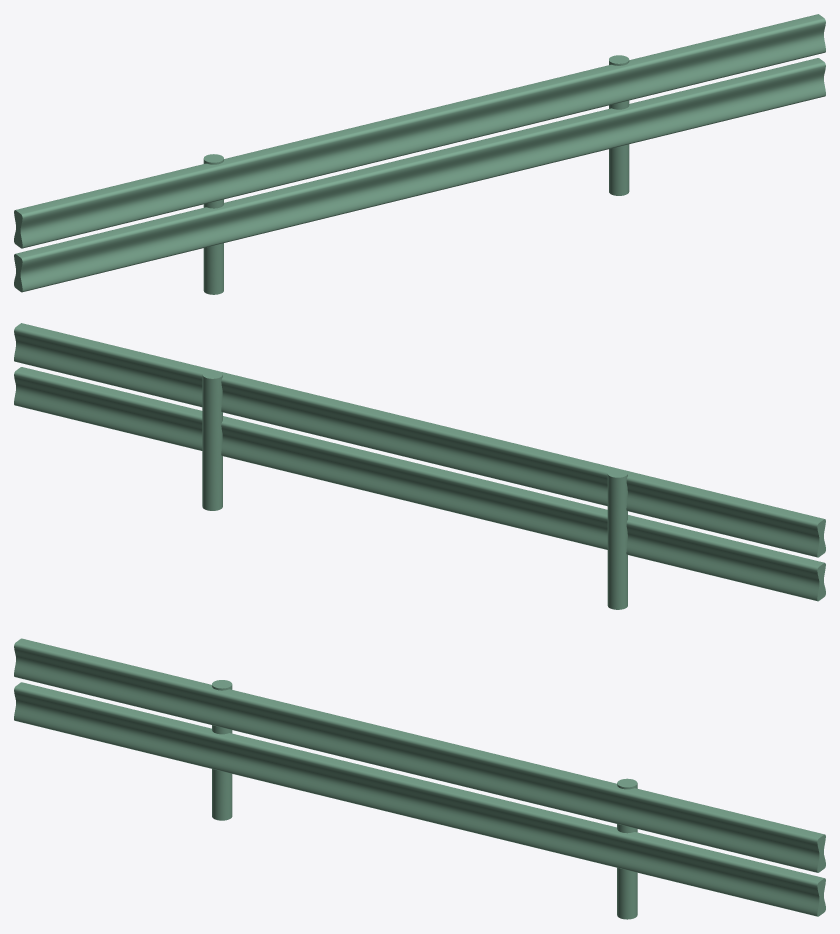
Rendered from SM_Fence2-5.glb.
The picture shows the model from 3 angles, top to bottom: view 1: azimuth 30°, elevation 25°; view 2: azimuth 150°, elevation 25°; view 3: azimuth 330°, elevation 25°; orthographic projection.
Visible parts, largest first — view 1: SM_Fence2-5; view 2: SM_Fence2-5; view 3: SM_Fence2-5.
Part boxes in pixels (x1,y1,x2,y2): SM_Fence2-5: (14,14,825,294); SM_Fence2-5: (14,323,825,609); SM_Fence2-5: (14,638,825,919).
Bounding box in the file's own units: 5 × 0.7865 × 0.1462.
Materials: 1 (1 with a texture image).
